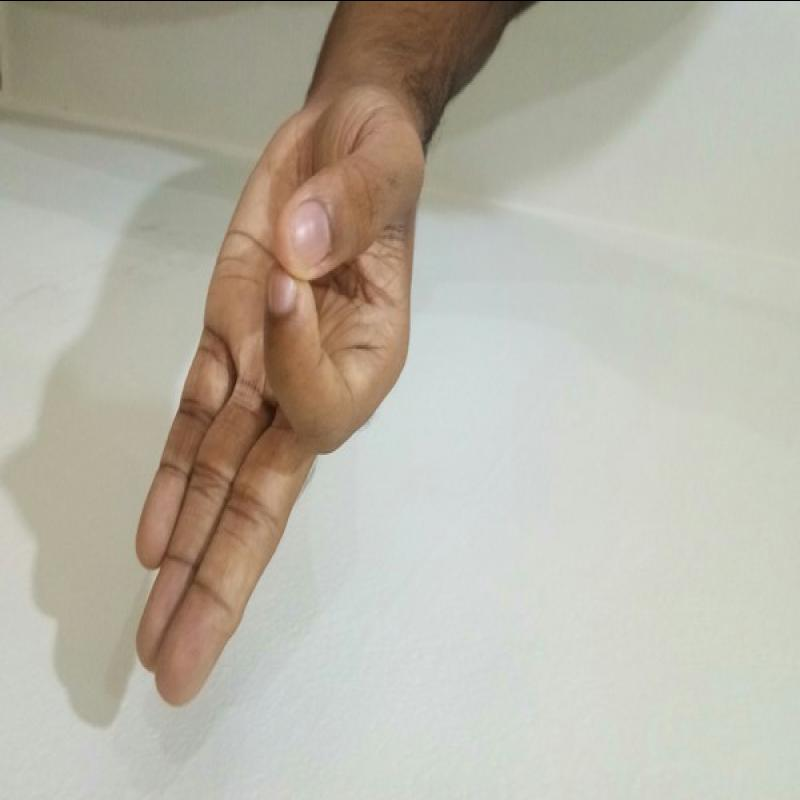Mudraakhyam: (108, 81, 450, 729)
